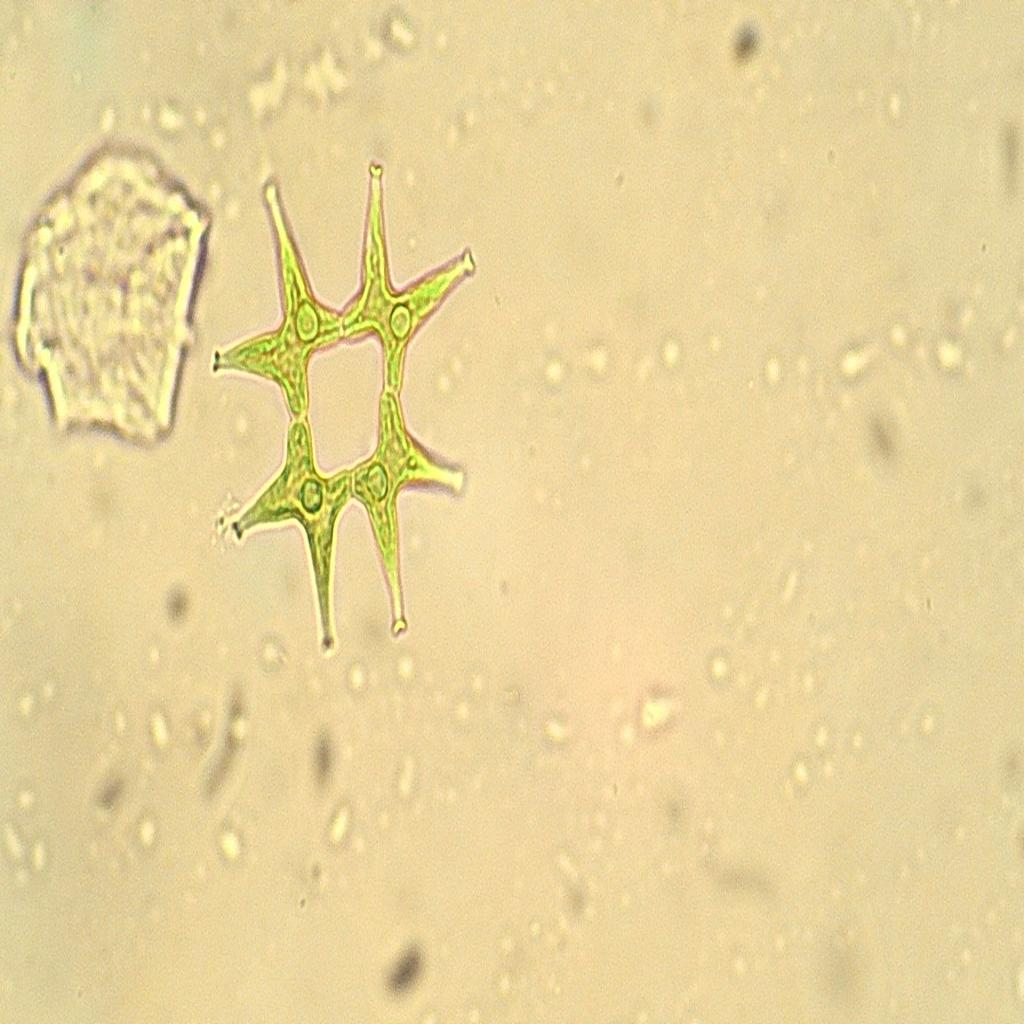Pediastrum_75O: (194, 147, 506, 680)
